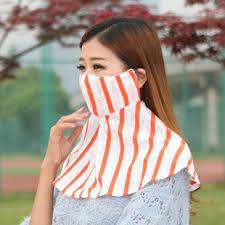OK: (78, 54, 138, 113)
